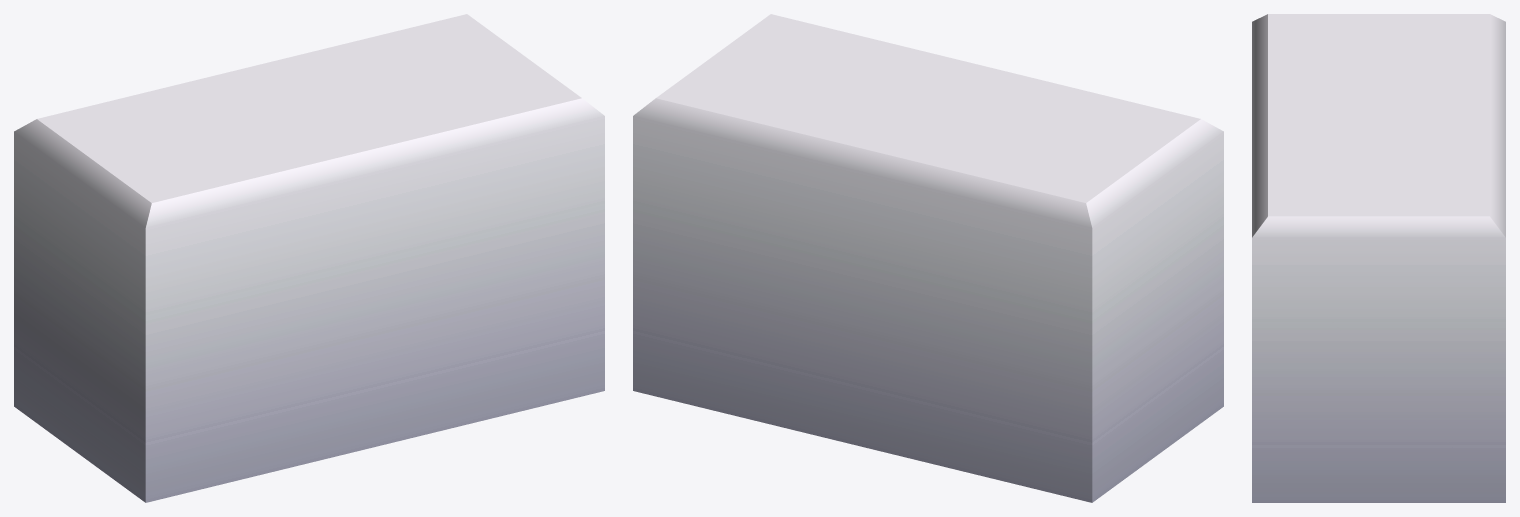
The model's file is none-hq-brick-1x2.glb.
The picture shows the model from 3 angles, left to right: view 1: azimuth 30°, elevation 25°; view 2: azimuth 150°, elevation 25°; view 3: azimuth 270°, elevation 25°; orthographic projection. The views are drawn at different scales.
Visible parts, largest first — view 1: none-hq-brick-1x2; view 2: none-hq-brick-1x2; view 3: none-hq-brick-1x2.
Part boxes in pixels (box(x1,y1,x2,y2)): none-hq-brick-1x2: box(14, 14, 604, 502); none-hq-brick-1x2: box(633, 14, 1223, 502); none-hq-brick-1x2: box(1252, 14, 1505, 502).
Size of the model in its own units: 0.159 by 0.096 by 0.079.
1 material, 1 textured.
